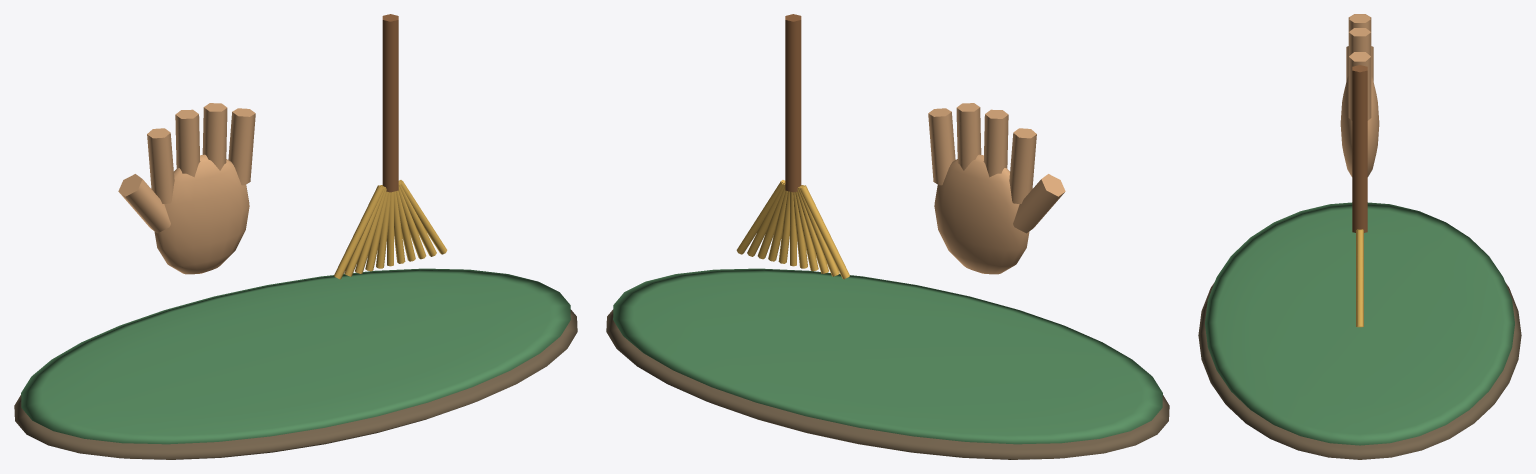
Rendered from hand-sweep.glb.
The picture shows the model from 3 angles, left to right: view 1: azimuth 30°, elevation 25°; view 2: azimuth 150°, elevation 25°; view 3: azimuth 270°, elevation 25°; orthographic projection. The views are drawn at different scales.
Parts seen in each view (by area): view 1: hand-sweep_surface_01, hand-sweep_surface_02, hand-sweep_surface_00, hand-sweep_surface_04, hand-sweep_surface_03; view 2: hand-sweep_surface_01, hand-sweep_surface_02, hand-sweep_surface_00, hand-sweep_surface_04, hand-sweep_surface_03; view 3: hand-sweep_surface_01, hand-sweep_surface_00, hand-sweep_surface_02, hand-sweep_surface_03, hand-sweep_surface_04.
Boxes of the visible parts, x1,y1,x2,y2 form: hand-sweep_surface_01: [21, 268, 570, 444]; hand-sweep_surface_02: [118, 103, 255, 274]; hand-sweep_surface_00: [14, 309, 577, 459]; hand-sweep_surface_04: [334, 180, 447, 279]; hand-sweep_surface_03: [382, 14, 398, 192]; hand-sweep_surface_01: [613, 268, 1162, 444]; hand-sweep_surface_02: [928, 103, 1065, 274]; hand-sweep_surface_00: [606, 309, 1169, 459]; hand-sweep_surface_04: [736, 180, 849, 279]; hand-sweep_surface_03: [785, 14, 801, 192]; hand-sweep_surface_01: [1205, 202, 1514, 445]; hand-sweep_surface_00: [1198, 282, 1521, 459]; hand-sweep_surface_02: [1340, 14, 1379, 176]; hand-sweep_surface_03: [1352, 65, 1367, 232]; hand-sweep_surface_04: [1356, 229, 1363, 327].
Size of the model in its own units: 4.56 by 2.78 by 2.5.
